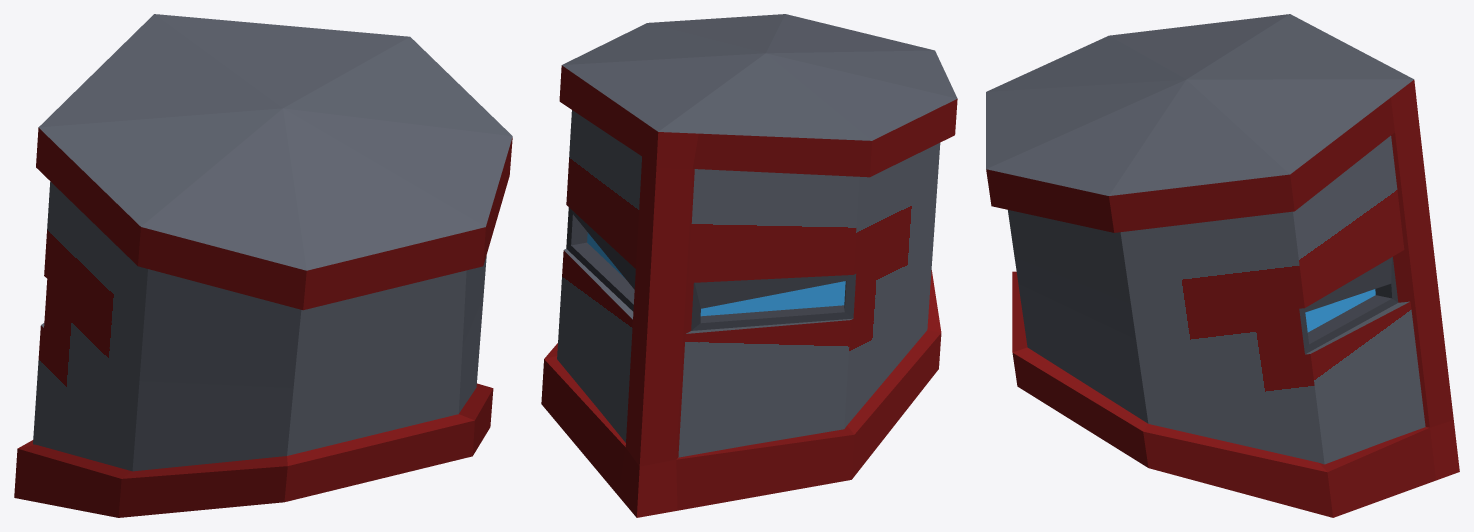
The model's file is SquireHead.obj.
3 views of the same model, side by side, from view 1: azimuth 30°, elevation 25°; view 2: azimuth 150°, elevation 25°; view 3: azimuth 270°, elevation 25° (orthographic). The views are drawn at different scales.
Visible parts, largest first — view 1: cylinder; view 2: cylinder; view 3: cylinder.
Part boxes in pixels (x1,y1,x2,y2): cylinder: (14,14,512,517); cylinder: (541,14,957,517); cylinder: (986,14,1459,517).
Size of the model in its own units: 0.3562 by 0.4061 by 0.4443.
Materials: 1 (1 with a texture image).
